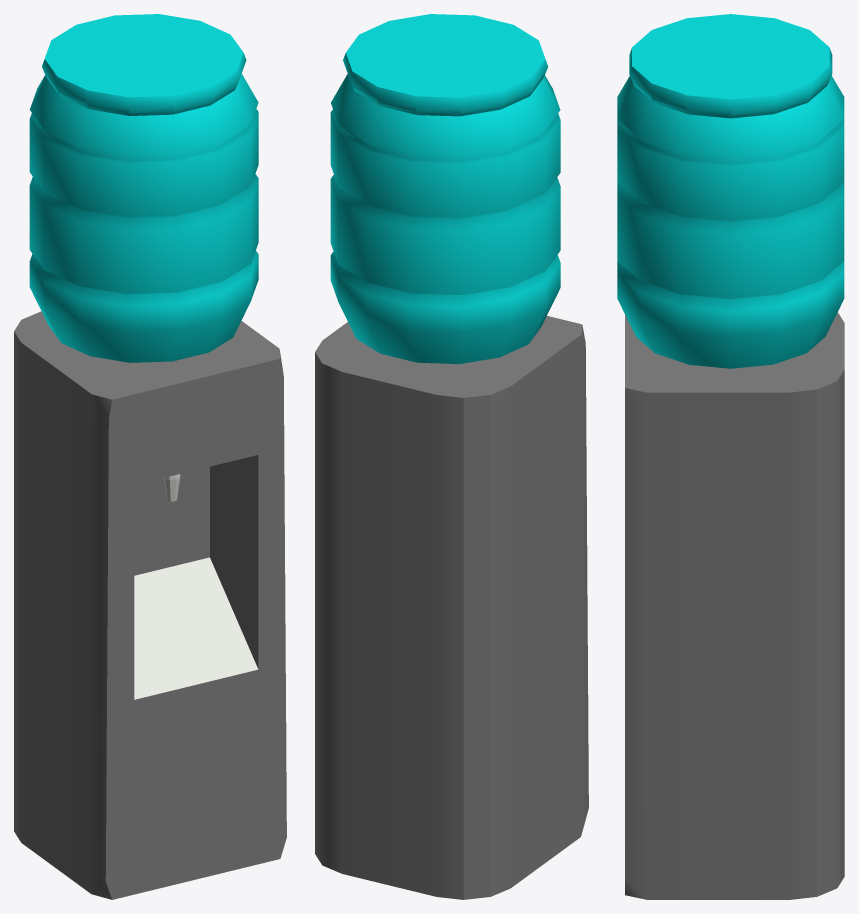
The model's file is Waterpump.fbx.
3 renders of one model, left to right at view 1: azimuth 30°, elevation 25°; view 2: azimuth 150°, elevation 25°; view 3: azimuth 270°, elevation 25°, orthographic.
Parts seen in each view (by area): view 1: polySurface459; view 2: polySurface459; view 3: polySurface459.
Part boxes in pixels (bbox=[...]): polySurface459: bbox=[14, 14, 286, 899]; polySurface459: bbox=[315, 14, 588, 899]; polySurface459: bbox=[617, 14, 844, 899].
Bounding box in the file's own units: 0.4184 × 1.58 × 0.4085.
